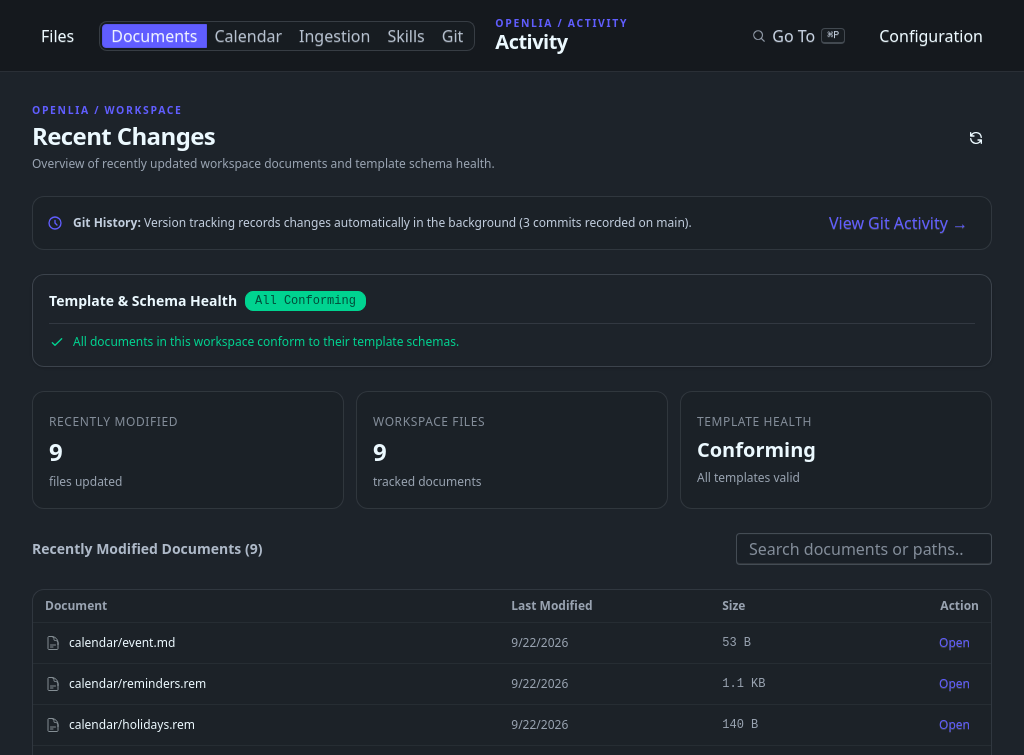
Test: workspace application › navigates to Git Activity tab and displays commit history
The width and height of the screenshot is (1024, 755).
Check: the heading "Recent Changes" is shown, box [32,120,215,152]
// Click the Git Activity tab button in header
Click the button "Git".
click(453, 36)  # box [433,24,472,48]
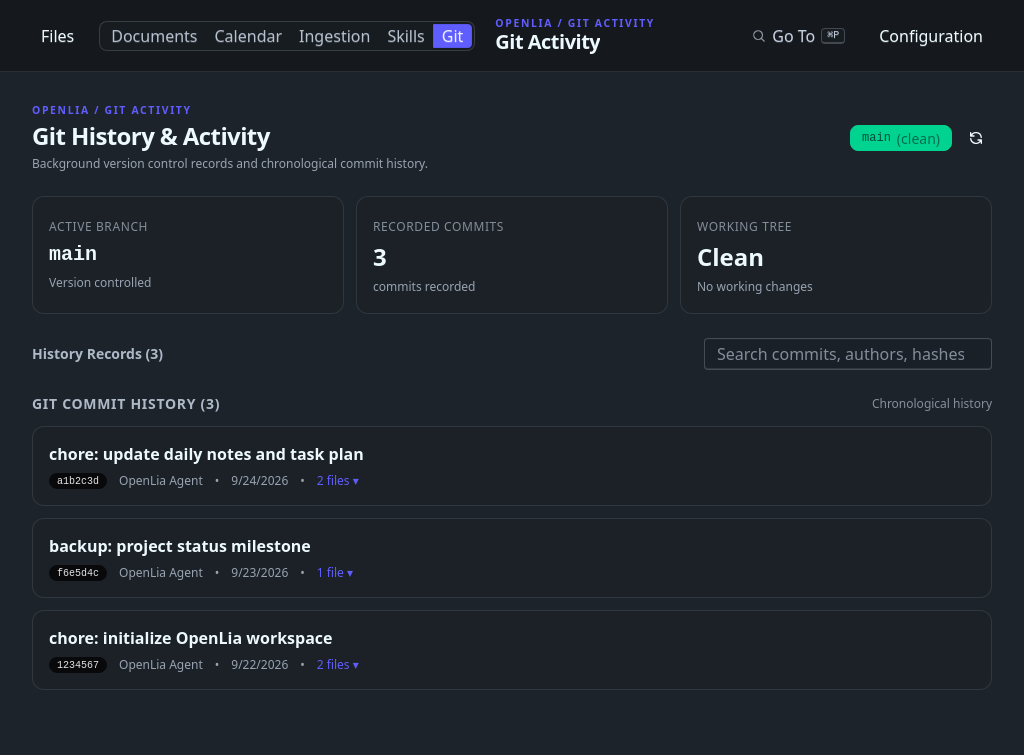
Check: the heading "Git History & Activity" is shown, box [32,120,270,152]
Check: the heading "Git Commit History (3)" is shown, box [32,394,220,414]
Check: the text "chore: update daily notes and task plan" is shown, box [49,444,364,466]
// Expand the first commit
Click the button "1 file ▾".
click(335, 574)  # box [317,566,353,582]
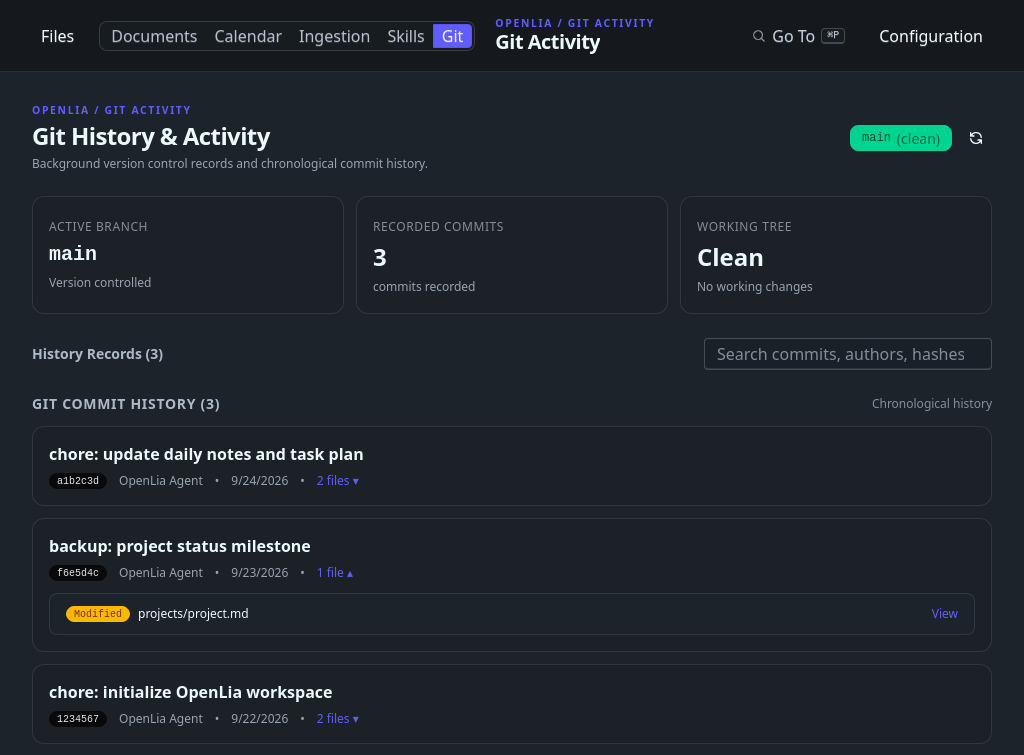
// Click View on the file in the commit
Click the button "View".
click(945, 614)  # box [932,606,958,622]
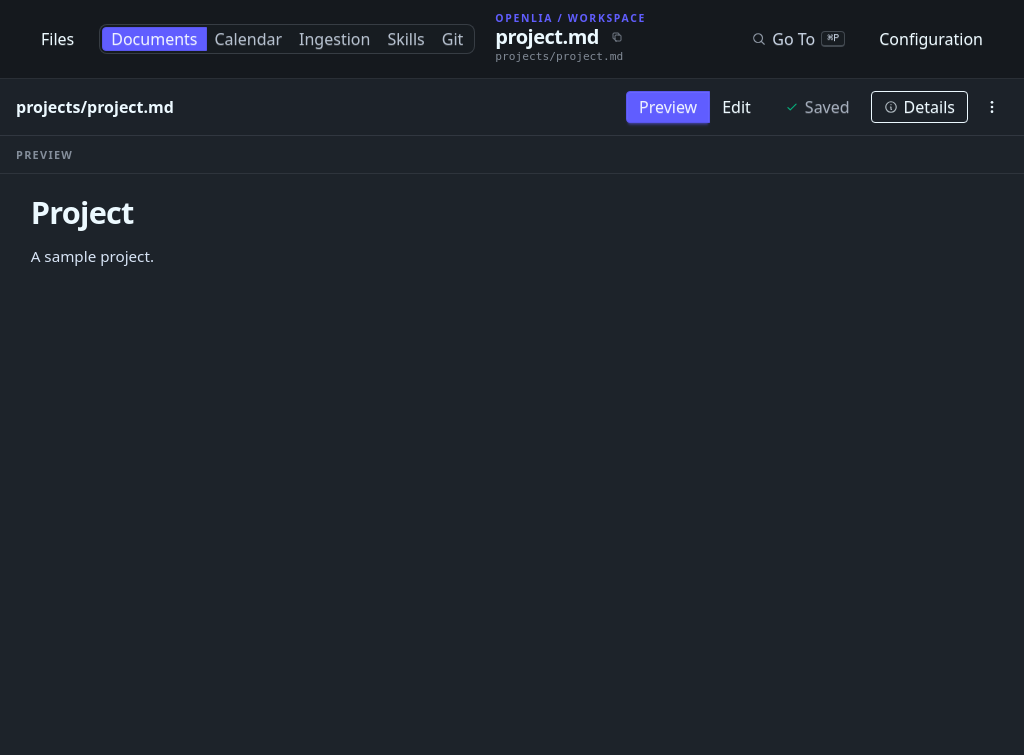
Check: the element named "Markdown preview" is shown, box [31,191,154,266]
